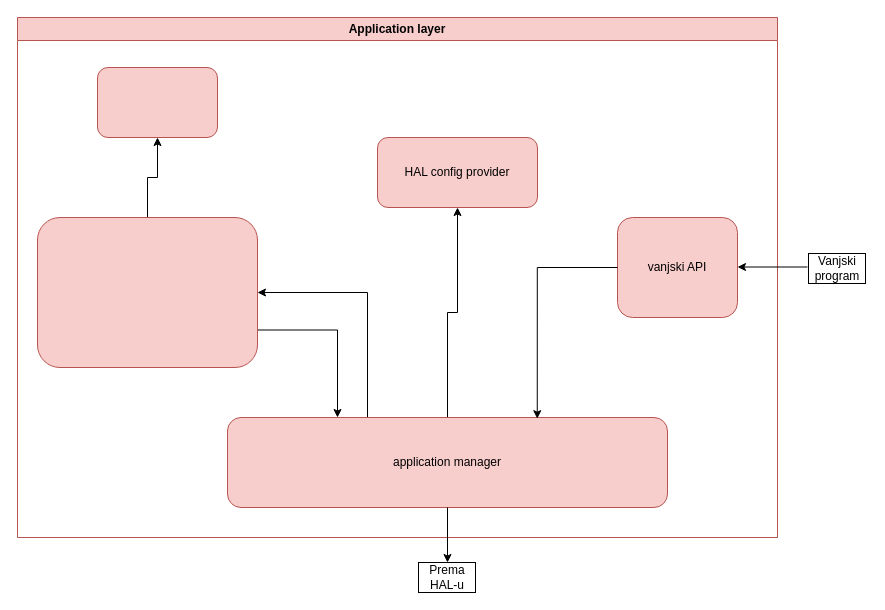
The diagram is 885 pixels wide and 610 high, and some of its shapes have lost their labels. Here are the shapes that lost their labels. From the top down, the box of each, then its label:
(96, 66, 218, 138): konstante
(36, 216, 258, 368): application decoder
